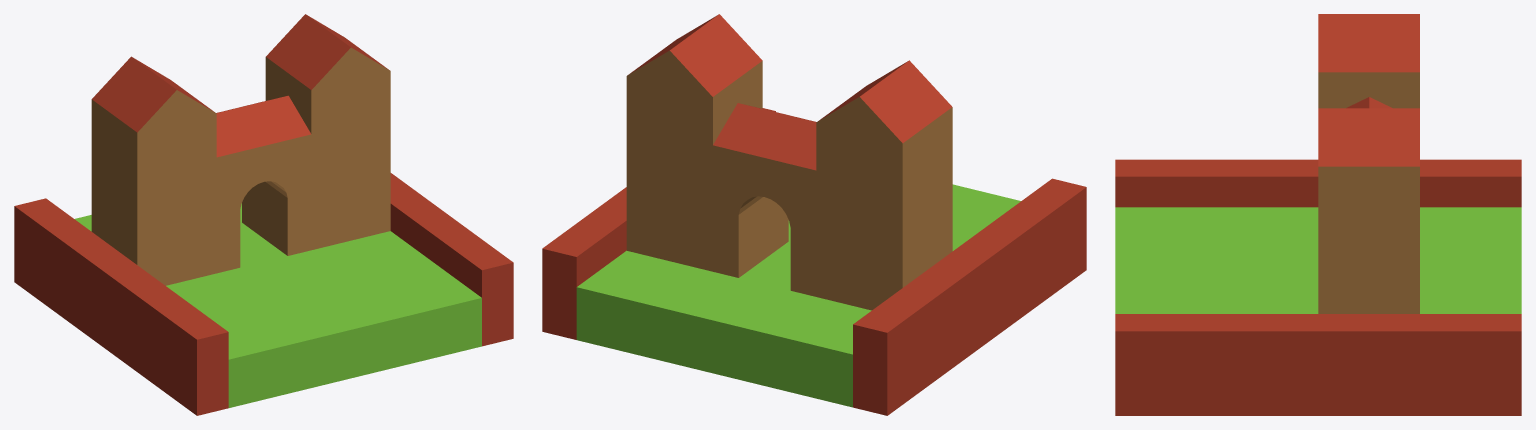
Rendered from Castle.FBX.
The picture shows the model from 3 angles, left to right: view 1: azimuth 30°, elevation 25°; view 2: azimuth 150°, elevation 25°; view 3: azimuth 270°, elevation 25°; orthographic projection. The views are drawn at different scales.
Parts seen in each view (by area): view 1: Obstacle, Castle_01, Walls; view 2: Obstacle, Walls, Castle_01; view 3: Walls, Castle_01, Obstacle.
Part boxes in pixels (x1,y1,x2,y2): Obstacle: [91, 14, 390, 285]; Castle_01: [74, 203, 481, 407]; Walls: [14, 173, 513, 415]; Obstacle: [626, 14, 952, 310]; Walls: [542, 108, 1086, 415]; Castle_01: [576, 184, 1020, 407]; Walls: [1115, 159, 1521, 415]; Castle_01: [1115, 207, 1521, 313]; Obstacle: [1318, 14, 1419, 313].
Size of the model in its own units: 0.9999 by 0.9999 by 0.7299.
